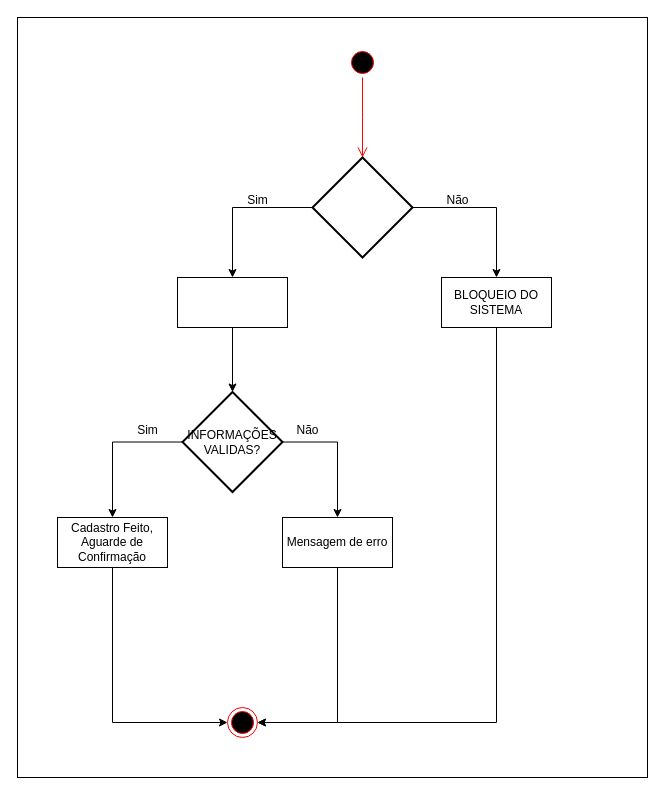
Some shapes in this 665 by 795 pixel diagram are drawn without their labels. The shapes that lost their labels are listed below. From the top down, each one's centre as x and y in pixels, then its label:
[362,207]: USUARIO QUER REGISTRAR
[232,302]: Usuario fornece Informações
